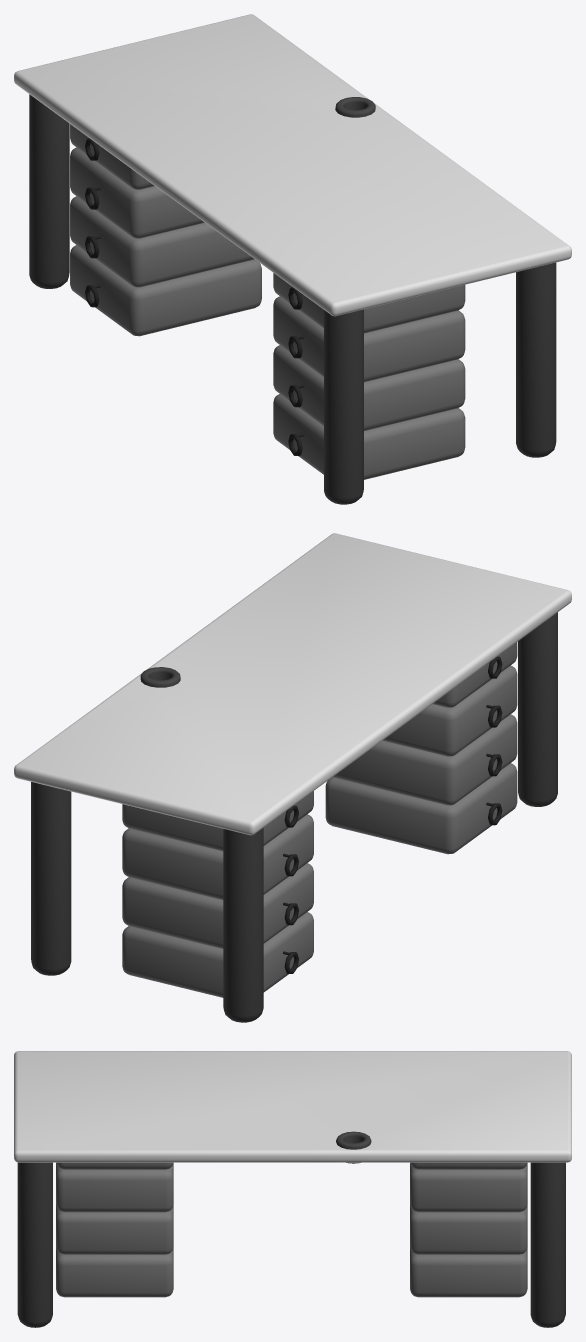
The model's file is Work Desk Small02.fbx.
3 renders of one model, top to bottom at view 1: azimuth 30°, elevation 25°; view 2: azimuth 150°, elevation 25°; view 3: azimuth 270°, elevation 25°, orthographic. The views are drawn at different scales.
Parts seen in each view (by area): view 1: Work Desk Small02; view 2: Work Desk Small02; view 3: Work Desk Small02.
Boxes of the visible parts, x1,y1,x2,y2 form: Work Desk Small02: [14, 14, 571, 504]; Work Desk Small02: [14, 533, 571, 1022]; Work Desk Small02: [14, 1051, 571, 1327].
Bounding box in the file's own units: 0.7027 × 1.62 × 0.5969.
